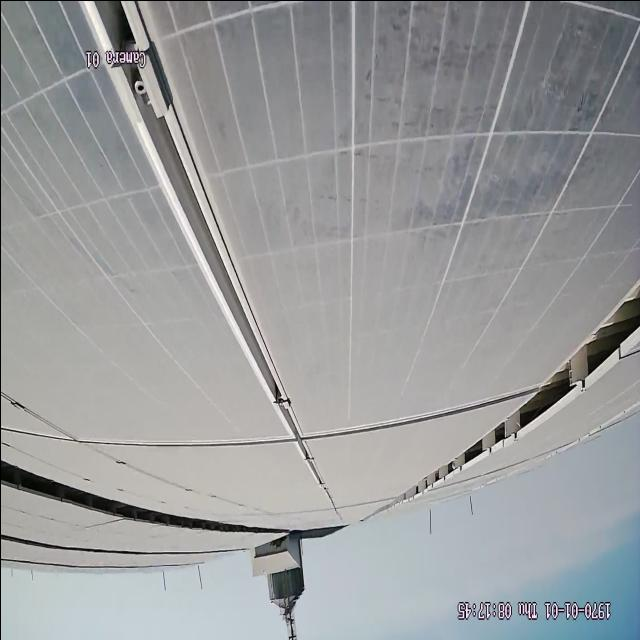interior panel: (85, 15, 333, 498), (55, 377, 515, 464)
outher panel: (376, 277, 639, 509), (0, 455, 256, 536)
